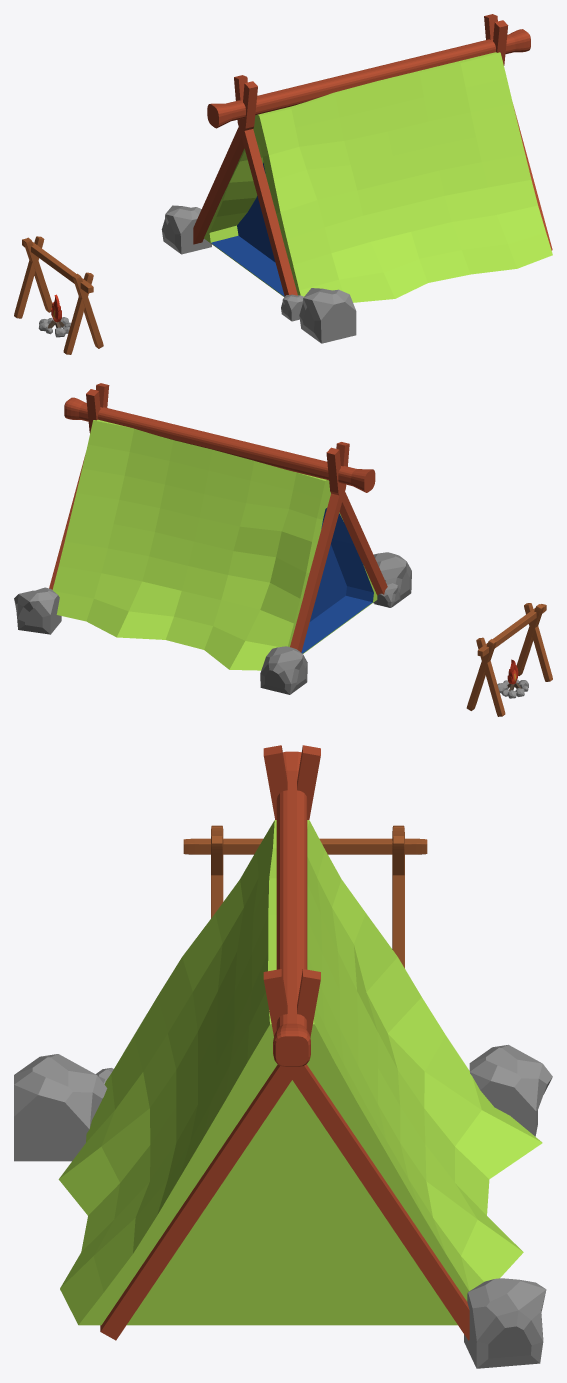
The model's file is col_kamp.fbx.
The picture shows the model from 3 angles, top to bottom: view 1: azimuth 30°, elevation 25°; view 2: azimuth 150°, elevation 25°; view 3: azimuth 270°, elevation 25°; orthographic projection. The views are drawn at different scales.
Visible parts, largest first — view 1: Cube.003, Cube.002, Cube.001, Cube.007, Cube.004, Cube.019, Cube.020, Cube, Cube.018, Cube.006; view 2: Cube.003, Cube.002, Cube.001, Cube.004, Cube.005, Cube.020, Cube.019, Cube.007, Cube, Cube.018, Cube.006; view 3: Cube.003, Cube, Cube.002, Cube.007, Cube.005, Cube.004, Cube.018, Cube.001, Cube.020, Cube.019.
Boxes of the visible parts, left/top/right/bottom form: Cube.003: left=204, top=52, right=552, bottom=302; Cube.002: left=207, top=29, right=530, bottom=128; Cube.001: left=193, top=75, right=297, bottom=296; Cube.007: left=299, top=288, right=356, bottom=343; Cube.004: left=161, top=205, right=211, bottom=254; Cube.019: left=63, top=272, right=103, bottom=354; Cube.020: left=14, top=236, right=52, bottom=318; Cube: left=484, top=14, right=552, bottom=250; Cube.018: left=22, top=238, right=93, bottom=293; Cube.006: left=281, top=294, right=303, bottom=321; Cube.003: left=52, top=419, right=377, bottom=670; Cube.002: left=64, top=397, right=375, bottom=492; Cube.001: left=290, top=442, right=387, bottom=652; Cube.004: left=260, top=646, right=307, bottom=694; Cube.005: left=14, top=587, right=61, bottom=634; Cube.020: left=466, top=637, right=505, bottom=716; Cube.019: left=516, top=603, right=552, bottom=681; Cube.007: left=373, top=552, right=411, bottom=606; Cube: left=49, top=383, right=109, bottom=589; Cube.018: left=477, top=604, right=546, bottom=656; Cube.006: left=374, top=581, right=400, bottom=607; Cube.003: left=58, top=820, right=542, bottom=1325; Cube: left=100, top=969, right=469, bottom=1340; Cube.002: left=273, top=751, right=310, bottom=1066; Cube.007: left=14, top=1054, right=107, bottom=1161; Cube.005: left=464, top=1278, right=546, bottom=1368; Cube.004: left=469, top=1044, right=552, bottom=1136; Cube.018: left=183, top=838, right=427, bottom=854; Cube.001: left=263, top=745, right=320, bottom=819; Cube.020: left=392, top=825, right=404, bottom=968; Cube.019: left=211, top=825, right=223, bottom=918.
Size of the model in its own units: 276 by 116 by 146.
